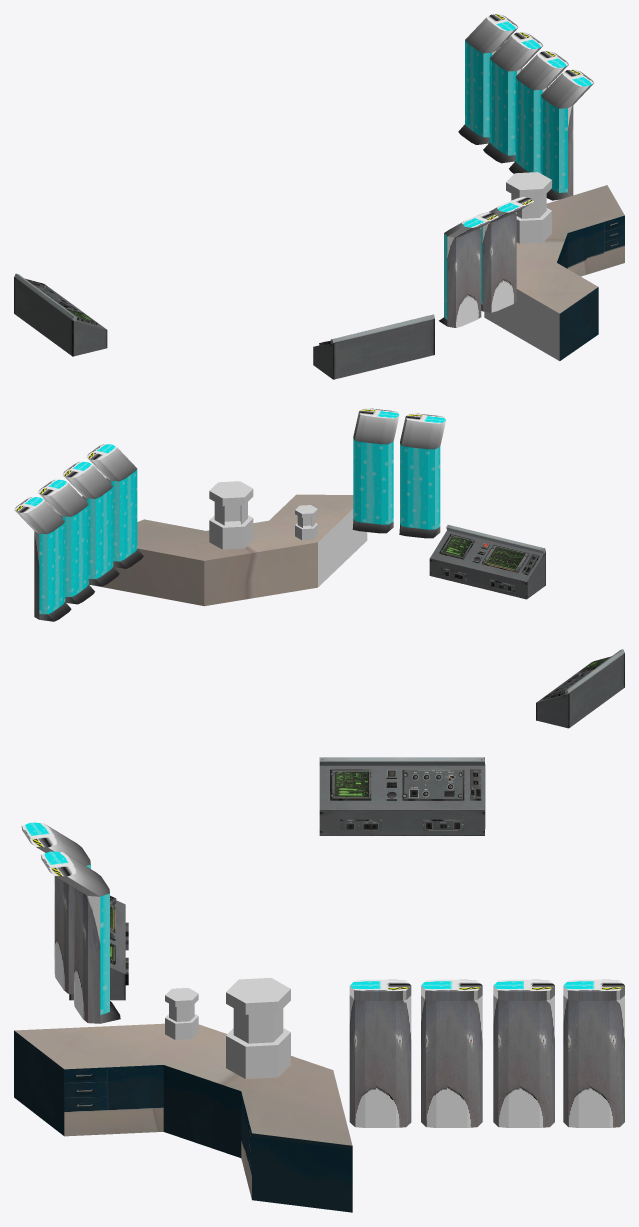
File: RoomX_Decor.fbx
The picture shows the model from 3 angles, top to bottom: view 1: azimuth 30°, elevation 25°; view 2: azimuth 150°, elevation 25°; view 3: azimuth 270°, elevation 25°; orthographic projection. The views are drawn at different scales.
Parts seen in each view (by area): view 1: Circle.046, Cube.199, Cube.178, Cube.190, Cube.183, Cube.184, Cube.179, Cube.176, Cube.177, Cylinder, Cylinder.001; view 2: Circle.046, Cube.199, Cube.179, Cube.183, Cube.176, Cube.190, Cube.177, Cube.178, Cube.184, Cylinder, Cylinder.001, Cylinder.003; view 3: Circle.046, Cube.190, Cube.178, Cube.176, Cube.184, Cube.177, Cube.179, Cylinder, Cube.183, Cylinder.001, Cube.199, Cylinder.003.
Part boxes in pixels (<box>): Circle.046: <box>484,185,624,360</box>; Cube.199: <box>313,314,434,379</box>; Cube.178: <box>540,69,593,200</box>; Cube.190: <box>14,273,107,356</box>; Cube.183: <box>439,212,498,327</box>; Cube.184: <box>483,32,543,163</box>; Cube.179: <box>481,197,533,312</box>; Cube.176: <box>458,14,518,144</box>; Cube.177: <box>509,51,568,173</box>; Cylinder: <box>511,194,551,243</box>; Cylinder.001: <box>506,172,551,197</box>; Circle.046: <box>93,494,367,606</box>; Cube.199: <box>429,524,545,599</box>; Cube.179: <box>352,408,399,533</box>; Cube.183: <box>399,413,445,538</box>; Cube.176: <box>14,497,71,621</box>; Cube.190: <box>536,649,624,728</box>; Cube.177: <box>62,461,119,586</box>; Cube.178: <box>86,444,143,568</box>; Cube.184: <box>37,479,94,604</box>; Cylinder: <box>209,502,253,549</box>; Cylinder.001: <box>209,481,253,506</box>; Cylinder.003: <box>295,516,317,540</box>; Circle.046: <box>14,1023,352,1212</box>; Cube.190: <box>319,757,485,835</box>; Cube.178: <box>349,979,411,1127</box>; Cube.176: <box>563,979,624,1127</box>; Cube.184: <box>493,979,554,1127</box>; Cube.177: <box>421,979,482,1127</box>; Cube.179: <box>41,851,120,1023</box>; Cylinder: <box>226,1008,290,1078</box>; Cube.183: <box>21,822,90,994</box>; Cylinder.001: <box>226,978,290,1014</box>; Cube.199: <box>69,895,128,1000</box>; Cylinder.003: <box>165,1004,198,1039</box>.
Size of the model in its own units: 13226 by 3512 by 9090.
